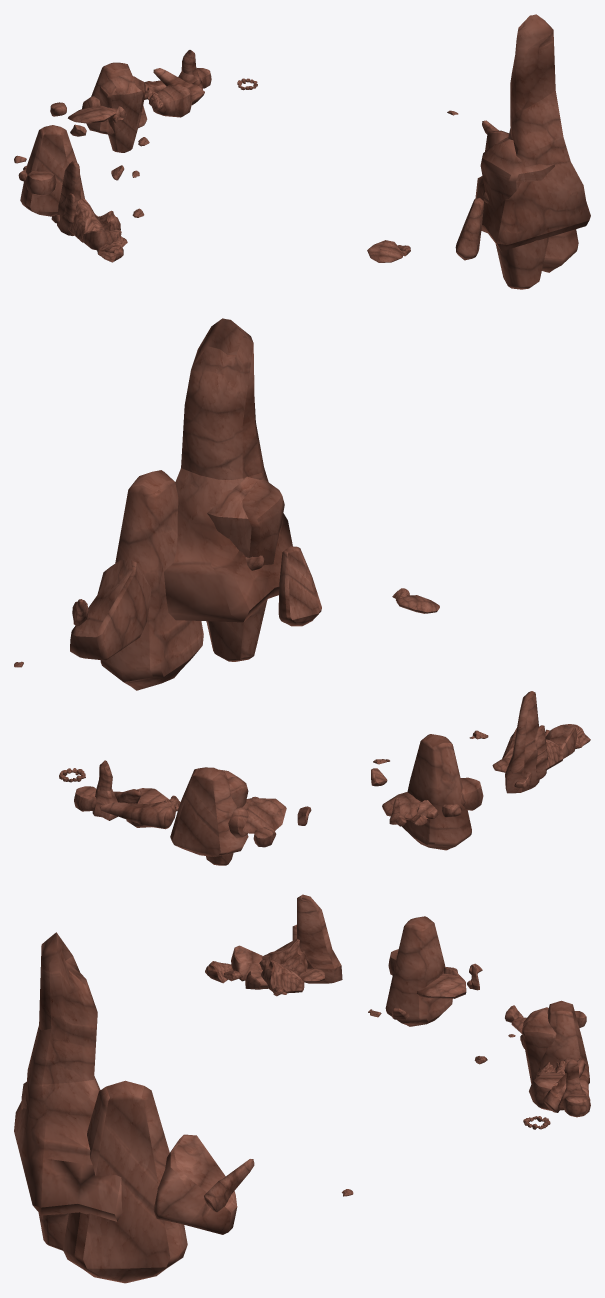
The model's file is s0_AG_Mountains_Art_01.glb.
The picture shows the model from 3 angles, top to bottom: view 1: azimuth 30°, elevation 25°; view 2: azimuth 150°, elevation 25°; view 3: azimuth 270°, elevation 25°; orthographic projection. The views are drawn at different scales.
Parts seen in each view (by area): view 1: node_AG_Terrain_Stone_01; view 2: node_AG_Terrain_Stone_01; view 3: node_AG_Terrain_Stone_01.
Part boxes in pixels (left/top/right/bottom): node_AG_Terrain_Stone_01: left=14, top=14, right=590, bottom=289; node_AG_Terrain_Stone_01: left=14, top=318, right=590, bottom=865; node_AG_Terrain_Stone_01: left=14, top=894, right=590, bottom=1283.
Size of what is drawn, in the model's own units: 63.03 by 40.41 by 63.71.
1 material, 1 textured.
